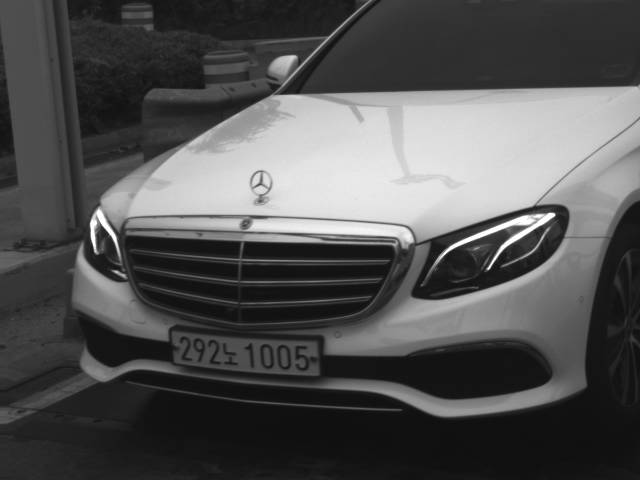car: (71, 1, 639, 434)
plate: (169, 328, 323, 378)
